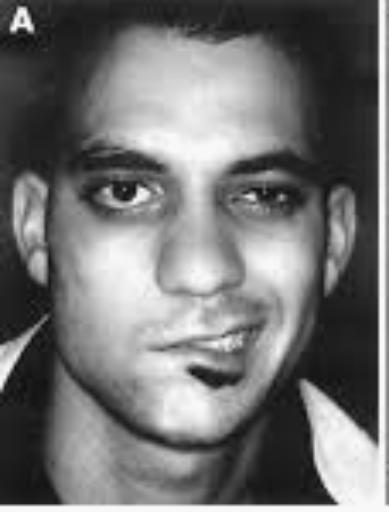left_eye: (230, 183, 306, 222)
left_lip_corner: (246, 312, 277, 336)
right_eye: (75, 177, 167, 220)
right_lip_corner: (153, 333, 194, 359)
